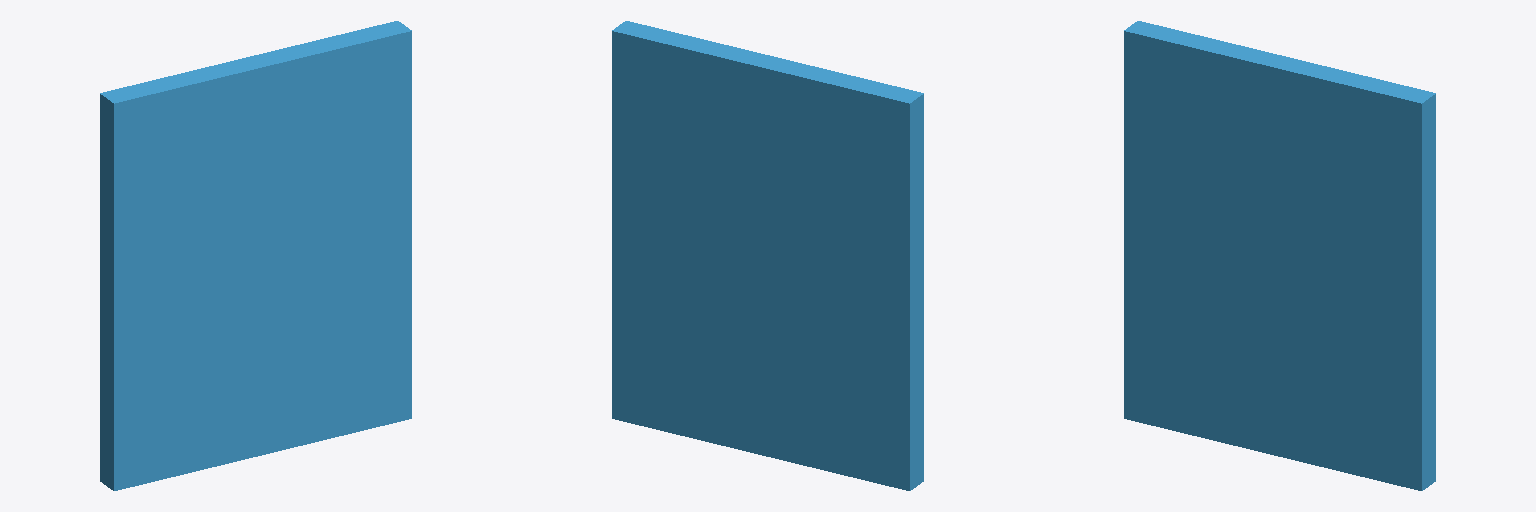
URDF robot description (book):
<?xml version="1.0" ?>
<robot name="book">
	<link name="book_pose"/>
	<link name="book">
		<visual>
			<origin xyz = "0 0 0"/>
			<geometry>
				<mesh filename="package://objects_description/book/book.obj" />
			</geometry>
		</visual>
		<collision>
			<origin xyz="0 0 0"/>
			<geometry>
				<mesh filename="package://objects_description/book/book.obj" />
			</geometry>
		</collision>
		<inertial>
			<mass value="0.9"/>
			<inertia ixx="0.0" ixy="0.0" ixz="0.0" iyy="0.0" iyz="0.0" izz="0.0" />
		</inertial>
	</link>
	<joint name="joint_0" type="fixed">
		<origin rpy="0 0 0" xyz="0 0 0"/>
		<child link="book_pose"/>
		<parent link="book"/>
	</joint>
</robot>

--- What the picture shows (computed from the rendered views, not written in the file) ---
Views: 3 orthographic renders of the robot side by side, from view 1: azimuth 30°, elevation 25°; view 2: azimuth 150°, elevation 25°; view 3: azimuth 330°, elevation 25°.
Model book with 2 links and 1 joints (1 fixed), rooted at book, posed all joints at 0.
Visible links, largest first — view 1: book; view 2: book; view 3: book.
Boxes of the visible links, left/top/right/bottom form: book: left=100, top=21, right=411, bottom=490; book: left=612, top=21, right=923, bottom=490; book: left=1124, top=21, right=1435, bottom=490.
Size in the robot's own frame: 0.206 by 0.017 by 0.256 metres.
Meshes: 1 distinct files referenced, 1 mesh visuals loaded (1 OBJ).